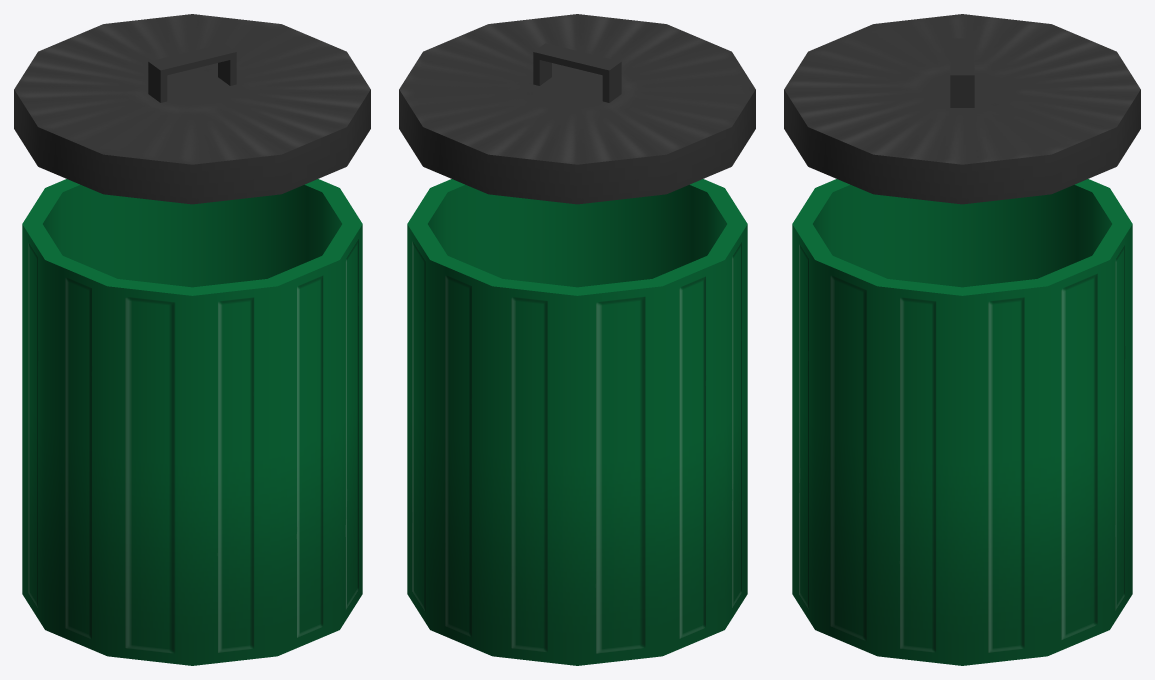
Rendered from trash_can.fbx.
The picture shows the model from 3 angles, left to right: view 1: azimuth 30°, elevation 25°; view 2: azimuth 150°, elevation 25°; view 3: azimuth 270°, elevation 25°; orthographic projection.
Visible parts, largest first — view 1: trash_can_can, trash_can_lid; view 2: trash_can_can, trash_can_lid; view 3: trash_can_can, trash_can_lid.
Part boxes in pixels (x1=…): trash_can_can: x1=22, y1=179, x2=362, y2=665; trash_can_lid: x1=14, y1=14, x2=370, y2=204; trash_can_can: x1=407, y1=179, x2=747, y2=665; trash_can_lid: x1=399, y1=14, x2=755, y2=204; trash_can_can: x1=792, y1=179, x2=1132, y2=665; trash_can_lid: x1=784, y1=14, x2=1140, y2=204.
Size of the model in its own units: 2.5 by 4.15 by 2.5.
Materials: 1 (1 with a texture image).
